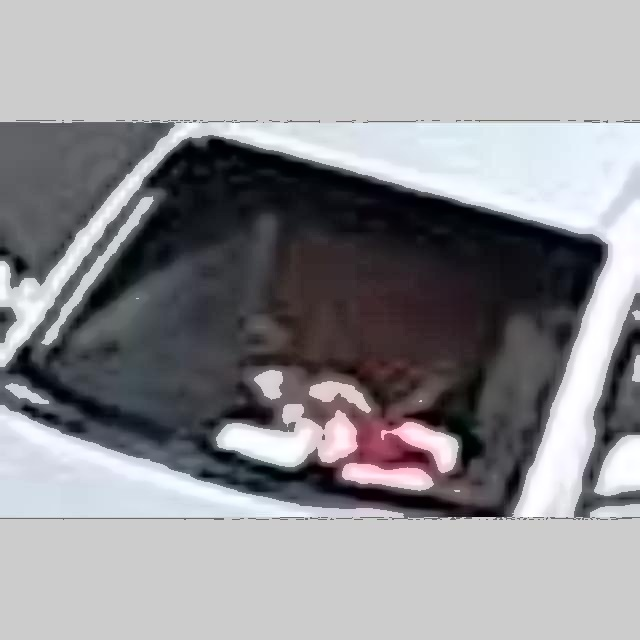tidak-pakai: (216, 190, 469, 436)
